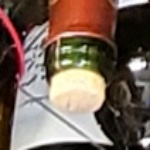bottle: (32, 30, 126, 124)
